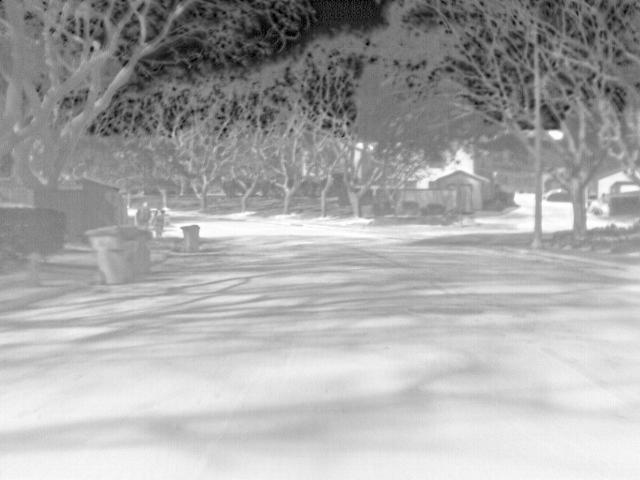person: (153, 205, 170, 240), (136, 198, 152, 230)
